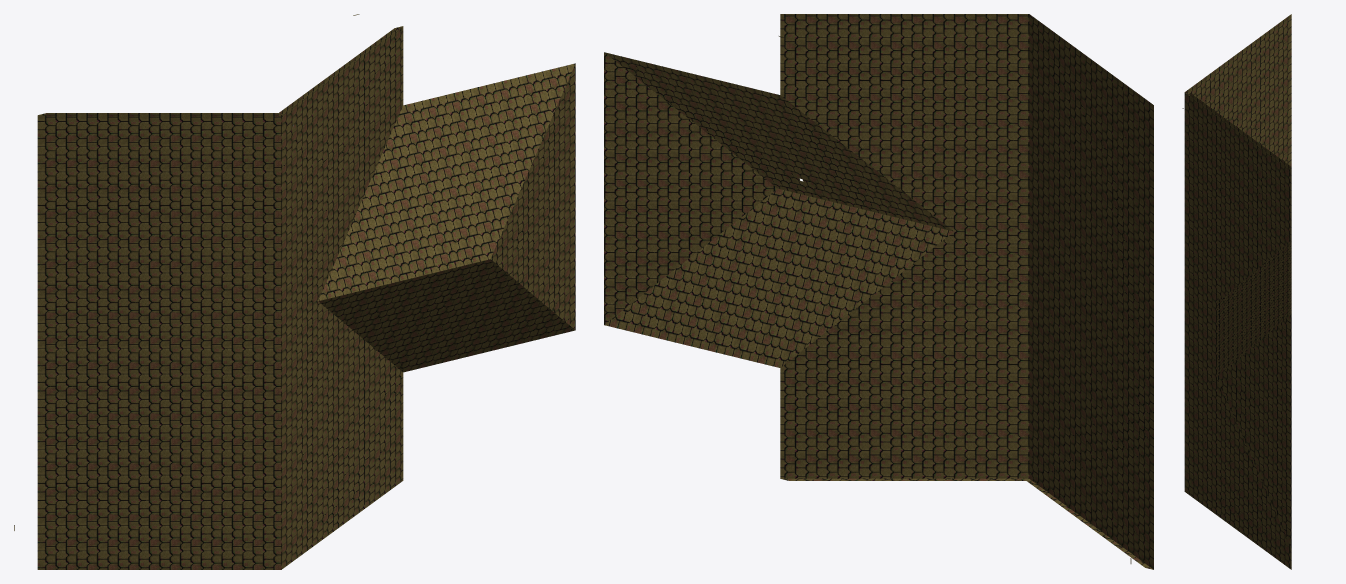
Rendered from casaa_.gltf.
The picture shows the model from 3 angles, left to right: view 1: azimuth 30°, elevation 25°; view 2: azimuth 150°, elevation 25°; view 3: azimuth 270°, elevation 25°; orthographic projection. The views are drawn at different scales.
Parts seen in each view (by area): view 1: SketchUp; view 2: SketchUp; view 3: SketchUp.
Boxes of the visible parts, x1,y1,x2,y2 form: SketchUp: (14, 14, 575, 569); SketchUp: (604, 14, 1153, 569); SketchUp: (1182, 14, 1291, 569).
Bounding box in the file's own units: 615 × 497 × 168.
